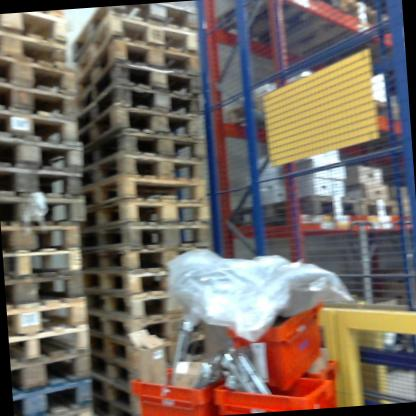pallet: (70, 5, 207, 85), (250, 0, 402, 70), (71, 50, 207, 116), (218, 179, 363, 237), (74, 93, 208, 155), (69, 2, 206, 58), (73, 34, 205, 90), (74, 187, 210, 239), (214, 0, 342, 52), (73, 76, 206, 126), (84, 145, 215, 194), (77, 124, 209, 171), (90, 321, 209, 372), (81, 215, 217, 256), (73, 169, 215, 208), (85, 277, 192, 325), (0, 129, 86, 184), (0, 25, 81, 83), (79, 238, 194, 277), (0, 103, 87, 154), (0, 76, 83, 129), (90, 306, 200, 345), (0, 51, 77, 106), (0, 158, 86, 204), (12, 351, 96, 396), (87, 268, 197, 302), (7, 272, 89, 316), (0, 187, 85, 228), (7, 300, 91, 341), (9, 326, 95, 366), (0, 10, 74, 55), (13, 380, 94, 416), (2, 222, 87, 252), (4, 247, 85, 278), (94, 372, 137, 414), (91, 353, 136, 387), (357, 192, 409, 215), (15, 403, 105, 416), (96, 397, 143, 416)
pallet_truck: (327, 213, 388, 313), (384, 212, 416, 368)
small_load_carrier: (218, 295, 339, 388), (129, 360, 242, 416), (208, 365, 331, 414)
